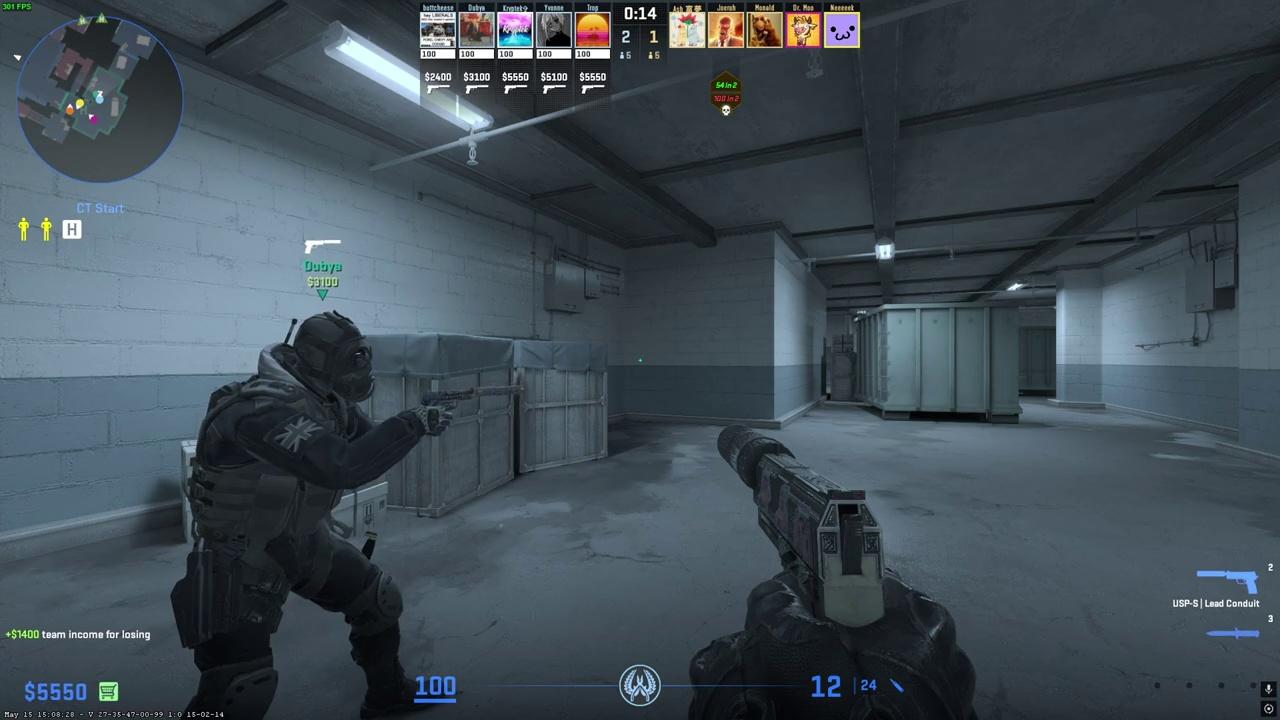CT: (178, 310, 416, 720)
